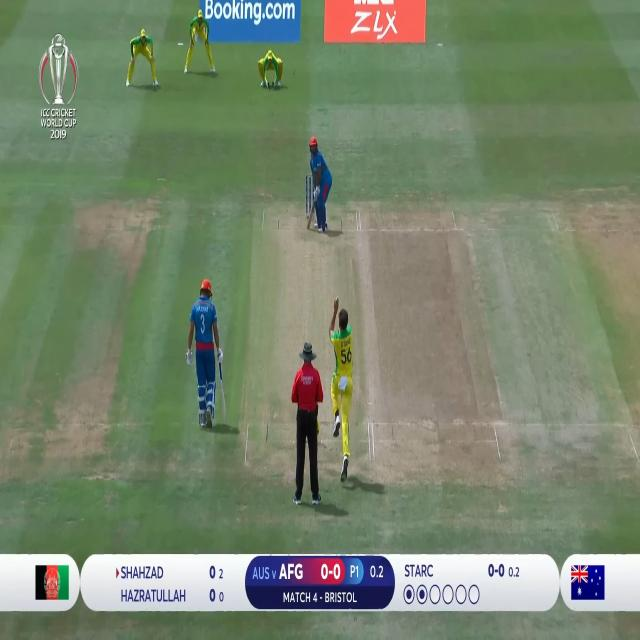ball: (334, 296, 342, 304)
